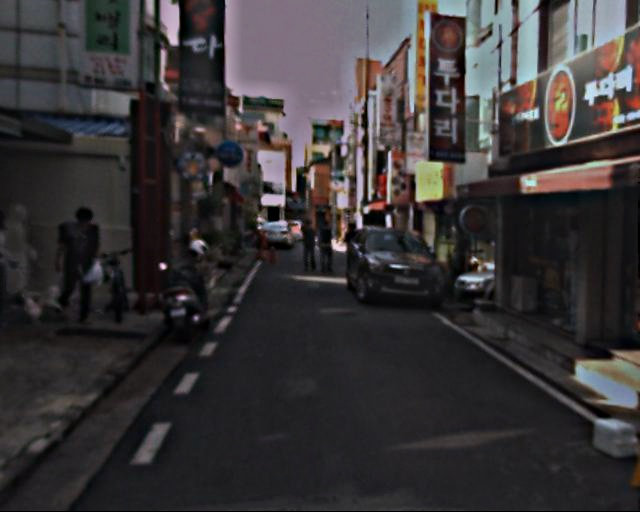person: (57, 204, 115, 326), (1, 203, 37, 320), (314, 219, 337, 276), (297, 219, 319, 273), (340, 221, 362, 274)
